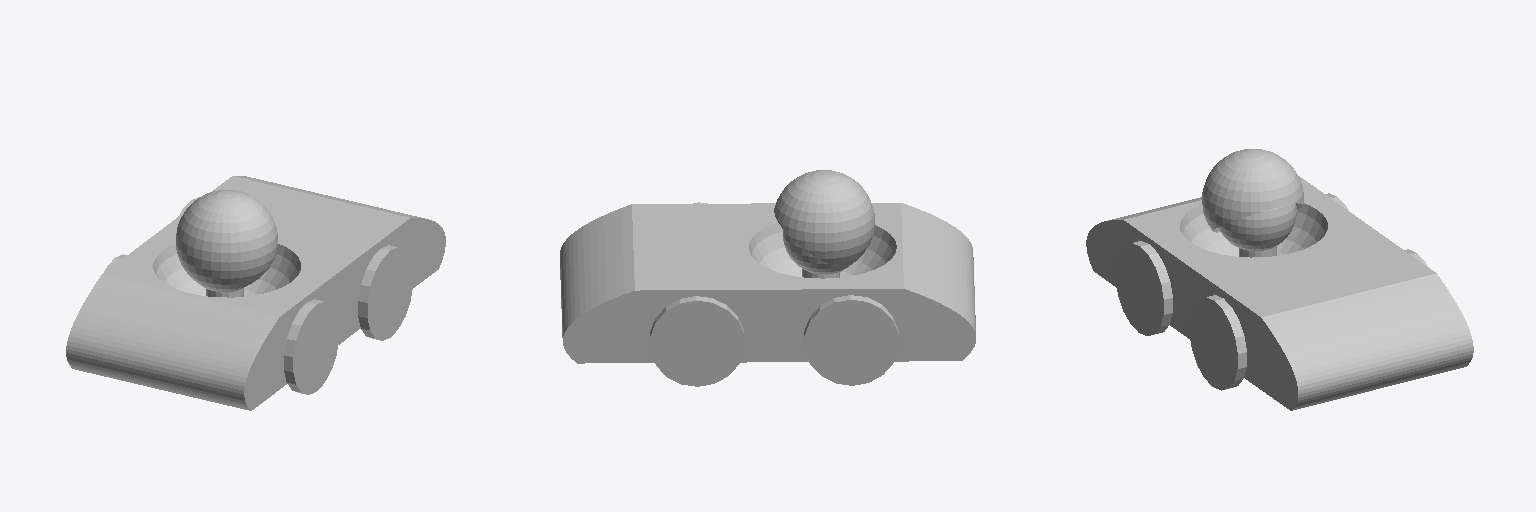
The model's file is redcar.obj.
3 views of the same model, side by side, from view 1: azimuth 30°, elevation 25°; view 2: azimuth 150°, elevation 25°; view 3: azimuth 270°, elevation 25° (orthographic).
Parts seen in each view (by area): view 1: Box001, Sphere002, Cylinder002, Cylinder001; view 2: Box001, Sphere002, Cylinder004, Cylinder003, Sphere001; view 3: Box001, Sphere002, Cylinder002, Cylinder001, Sphere001.
Boxes of the visible parts, x1=… form: Box001: x1=66, y1=176, x2=445, y2=410; Sphere002: x1=176, y1=190, x2=277, y2=290; Cylinder002: x1=358, y1=245, x2=412, y2=340; Cylinder001: x1=284, y1=299, x2=338, y2=394; Box001: x1=560, y1=203, x2=975, y2=363; Sphere002: x1=774, y1=170, x2=874, y2=266; Cylinder004: x1=804, y1=295, x2=898, y2=385; Cylinder003: x1=650, y1=296, x2=744, y2=386; Sphere001: x1=783, y1=229, x2=851, y2=274; Box001: x1=1086, y1=176, x2=1473, y2=410; Sphere002: x1=1202, y1=149, x2=1303, y2=232; Cylinder002: x1=1189, y1=295, x2=1246, y2=390; Cylinder001: x1=1115, y1=241, x2=1172, y2=335; Sphere001: x1=1218, y1=204, x2=1296, y2=250.
Size of the model in its own units: 72.16 by 28.37 by 60.79.